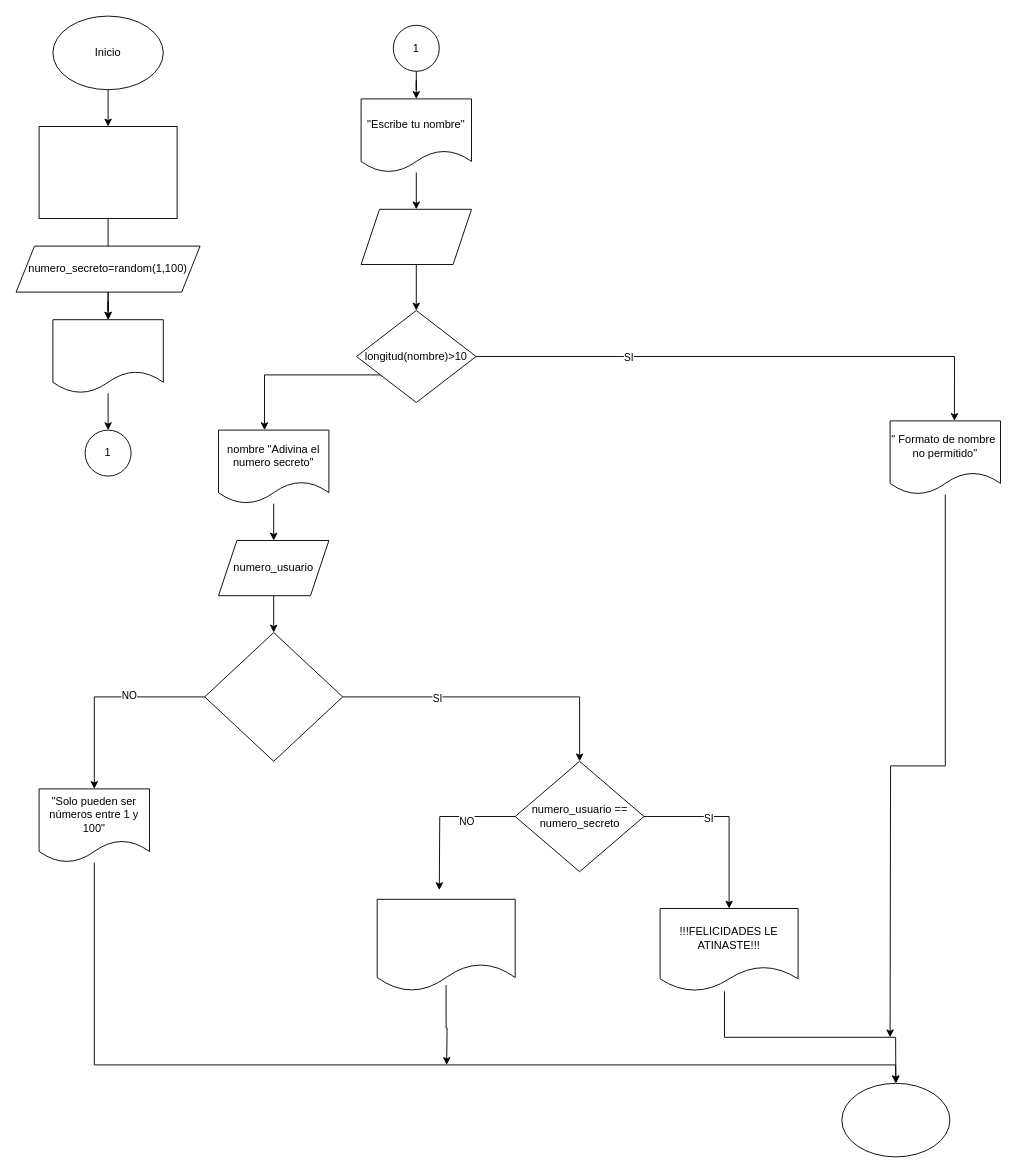
Some shapes in this 1017 by 1173 pixel diagram are drawn without their labels. The box of each missing label's shape, as (x1, y1, x2, y2) in pixels:
"*"+5, "Bienvenido! al juego de adivinar el numero", "*"*5: (52, 319, 163, 393)
:( LÁSTIMA NO LE ATINASTE!!!!, el número era: , numero_secreto: (376, 898, 515, 991)
FIN: (841, 1082, 950, 1157)
nombre: (360, 208, 472, 264)
numero_usuario (INT) numero_secreto (INT) nombre (STR) resultado (BOLEANO): (38, 126, 177, 218)
numero_usuario < 100 y numero_usuario > 0: (204, 632, 343, 761)
